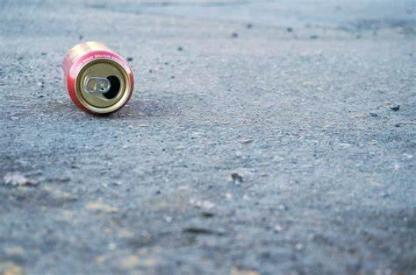Can: (62, 37, 136, 121)
